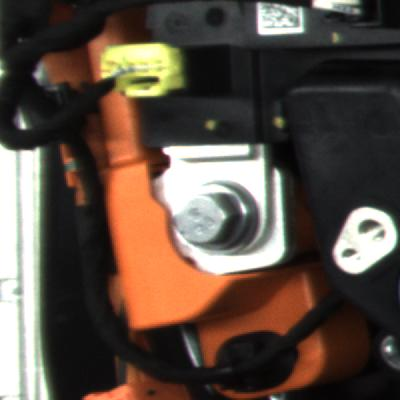nut_b: (162, 177, 268, 261)
